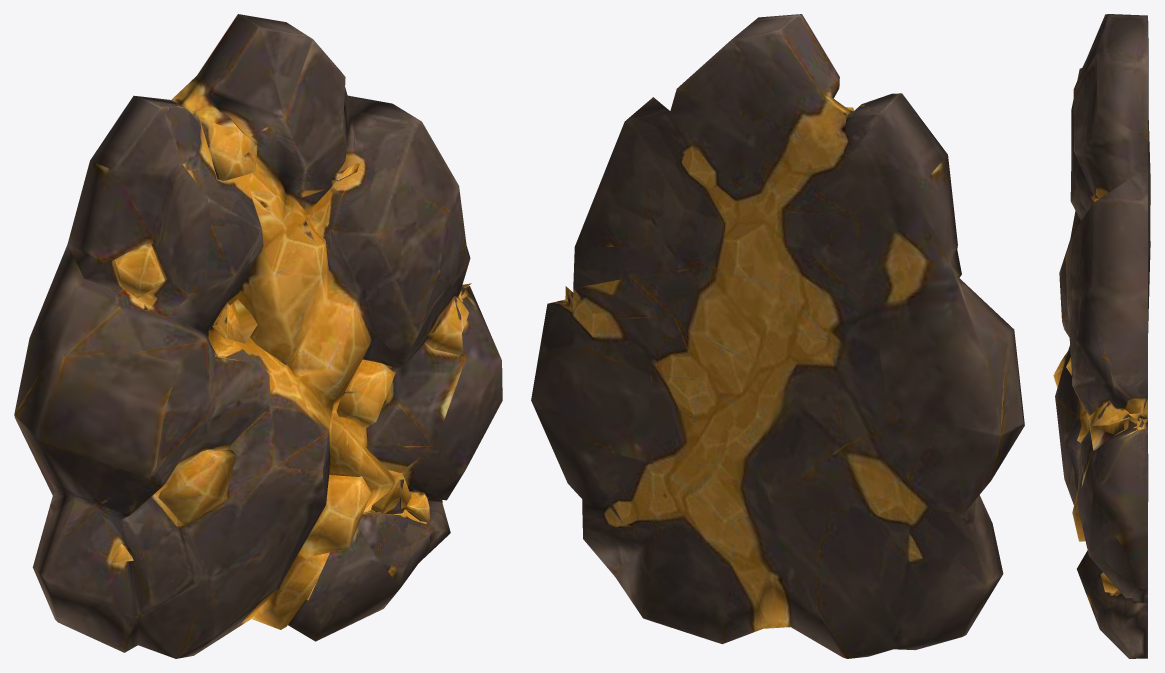
File: filon_or.glb
3 renders of one model, left to right at view 1: azimuth 30°, elevation 25°; view 2: azimuth 150°, elevation 25°; view 3: azimuth 270°, elevation 25°, orthographic. The views are drawn at different scales.
Bounding box in the file's own units: 0.7471 × 0.9517 × 0.1425.
1 material, 1 textured.
